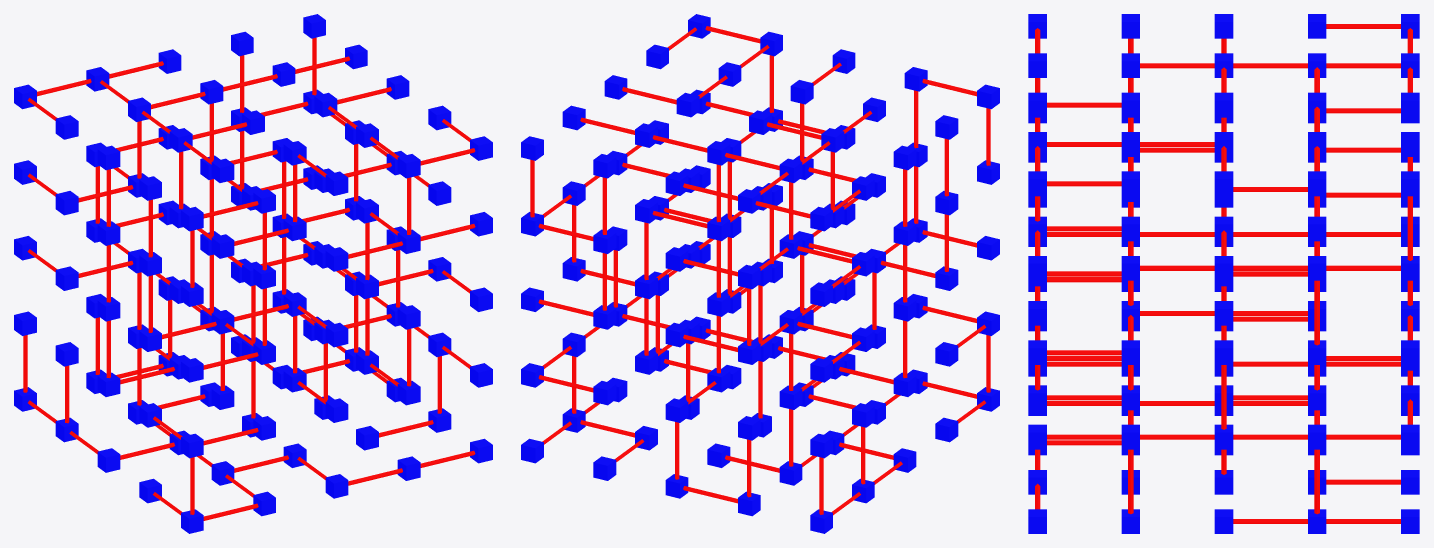
Rendered from Maze5x5x5.glb.
The picture shows the model from 3 angles, left to right: view 1: azimuth 30°, elevation 25°; view 2: azimuth 150°, elevation 25°; view 3: azimuth 270°, elevation 25°; orthographic projection. The views are drawn at different scales.
Bounding box in the file's own units: 4.2 × 4.2 × 4.2.
